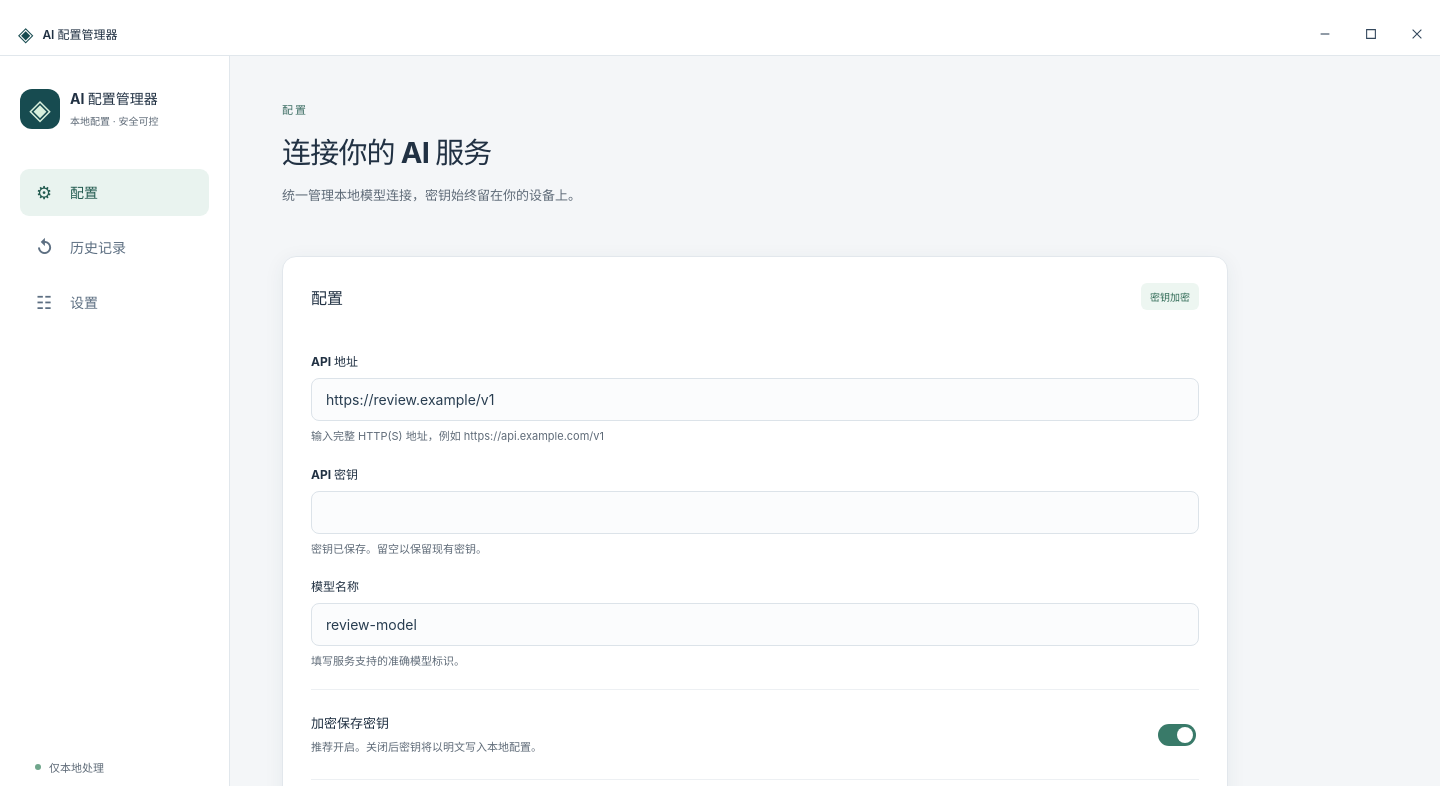
Test: independent settings behavior review › disables silent/tray controls and hide action when native tray is unavailable
Expected: the field showing "https://review.example/v1" is shown, [311,378,1199,421]
Step 1. Click the button "☷ 设置" → [114, 302], box [20,279,209,326]
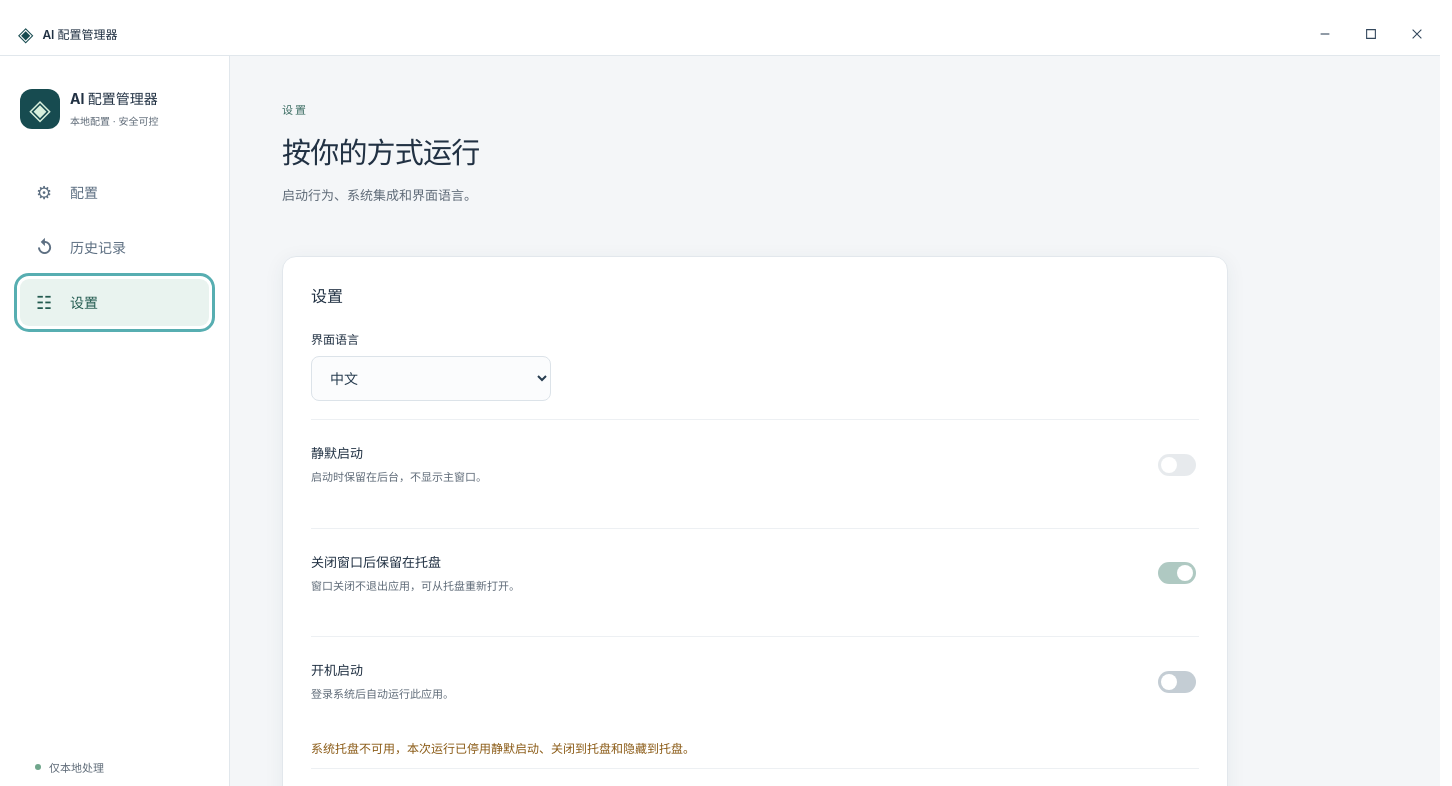
Result: the dropdown labelled "界面语言" is shown at [311,356,551,401]
Result: the switch labelled "关闭窗口后保留在托盘 窗口关闭不退出应用，可从托盘重新打开。" is disabled at [1158,562,1196,584]
Result: the message "系统托盘不可用，本次运行已停用静默启动、关闭到托盘和隐藏到托盘。" is shown at [311,741,695,756]
